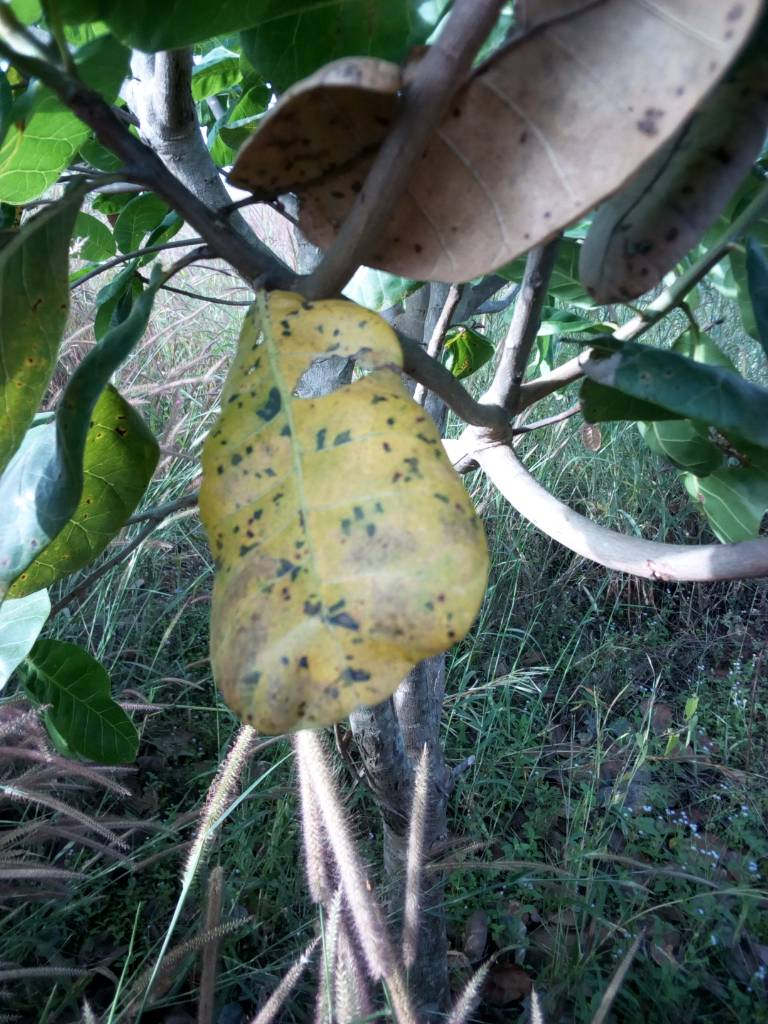Anthracnose: (280, 2, 758, 286), (210, 288, 493, 732)
